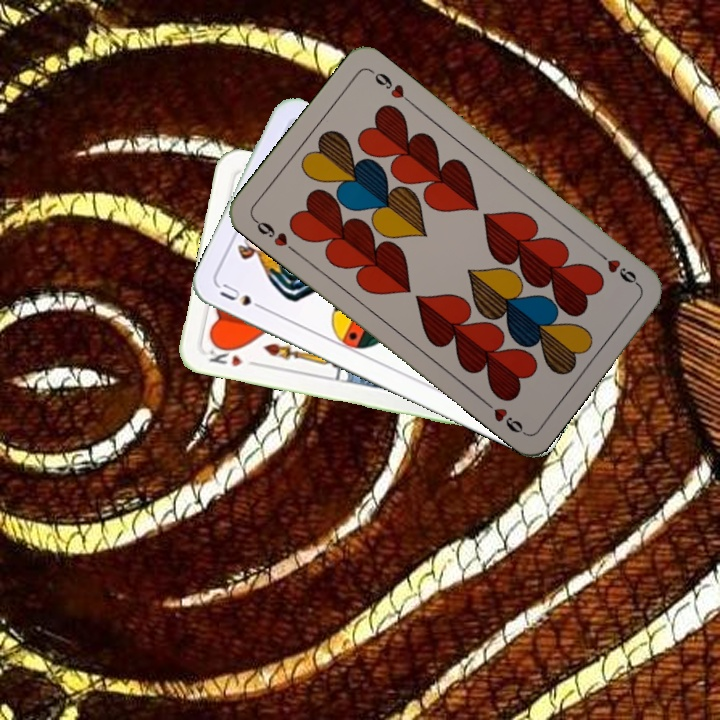H9: (249, 214, 299, 256), (593, 247, 643, 289)
HK: (205, 340, 261, 370)
SU: (215, 279, 271, 314)
